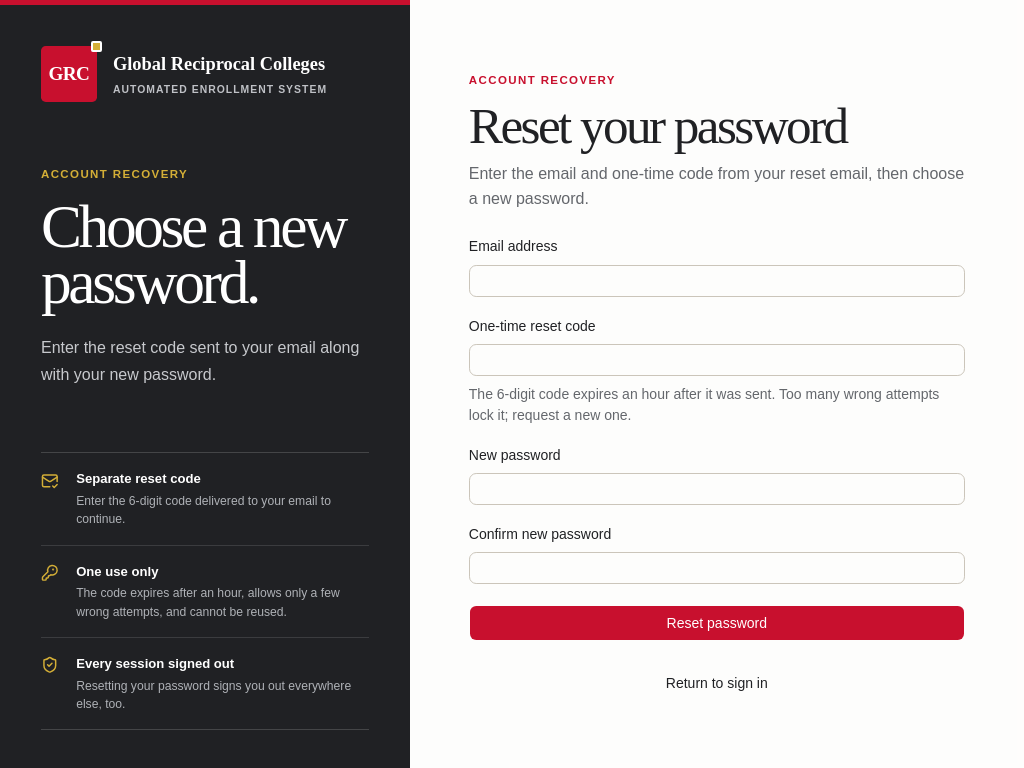
Scenario: ResetPasswordPage › keeps the form visible for an invalid or expired code
In the field labelled "Email address": x=717, y=281 [469,265,965,297], type "student@grc.test"
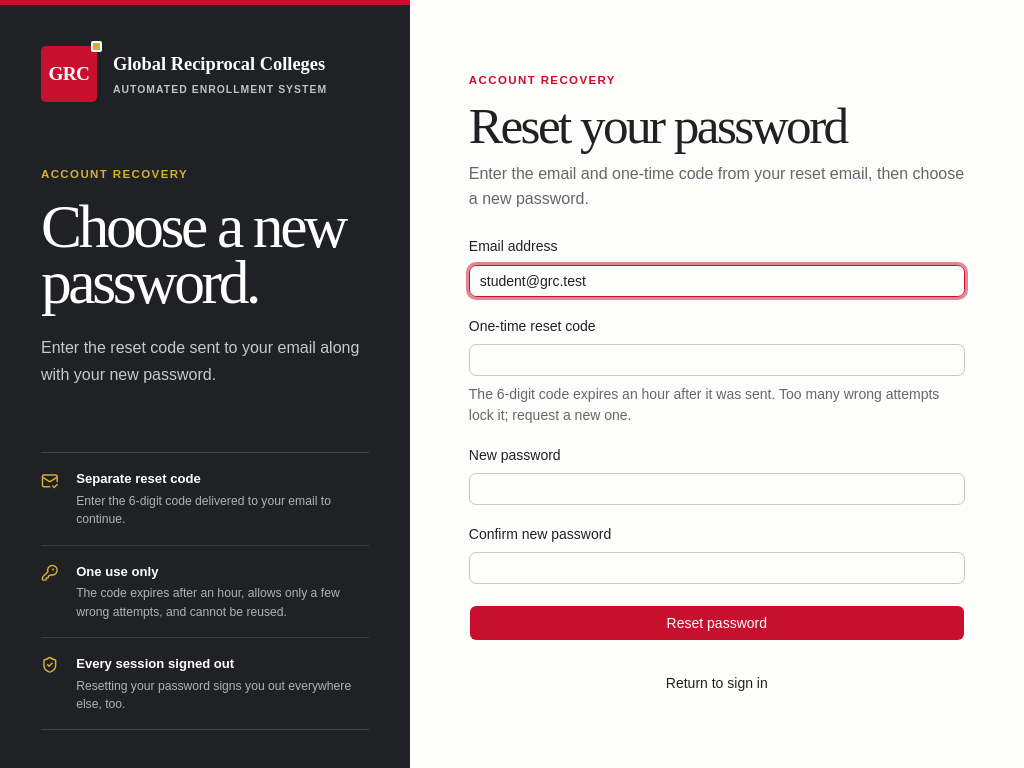
In the field labelled "One-time reset code": x=717, y=360 [469,344,965,376], type "123456"
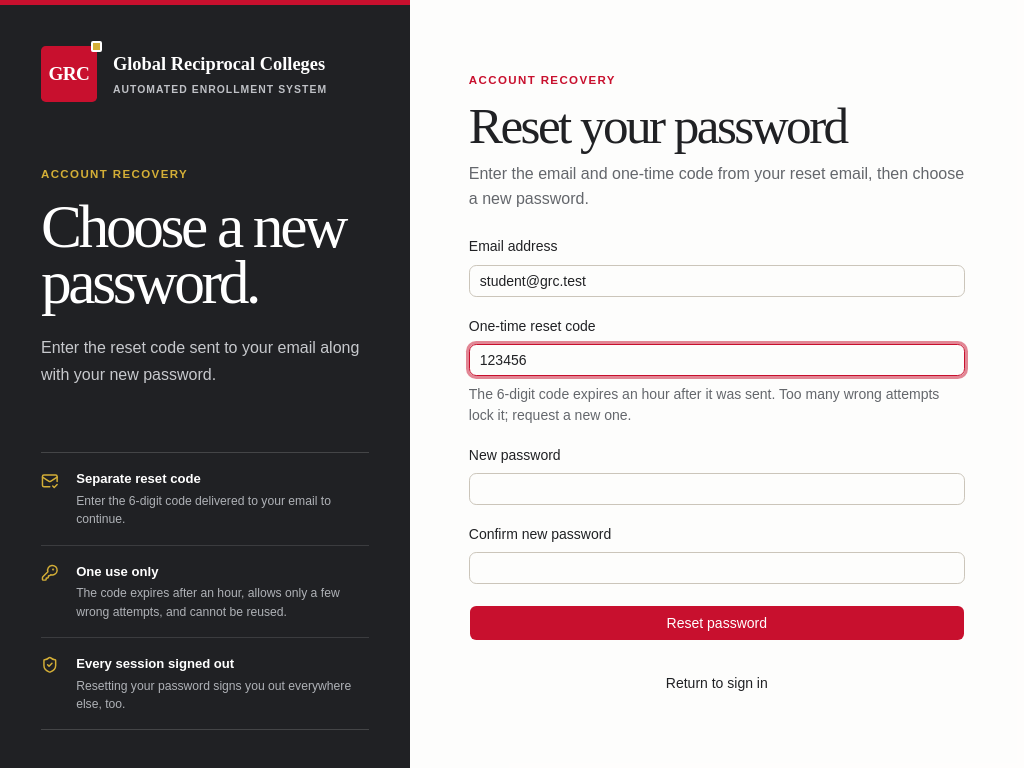
In the password field labelled "New password": x=717, y=489 [469,473,965,505], type "New-Secure-Password1!"
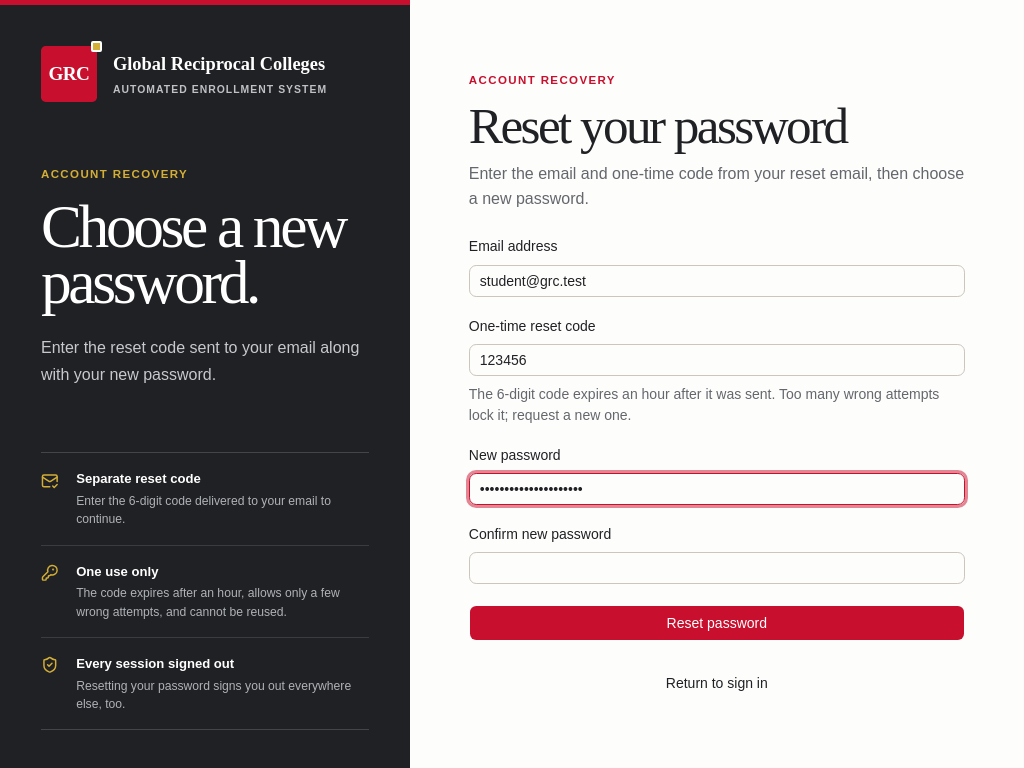
In the password field labelled "Confirm new password": x=717, y=568 [469,552,965,584], type "New-Secure-Password1!"
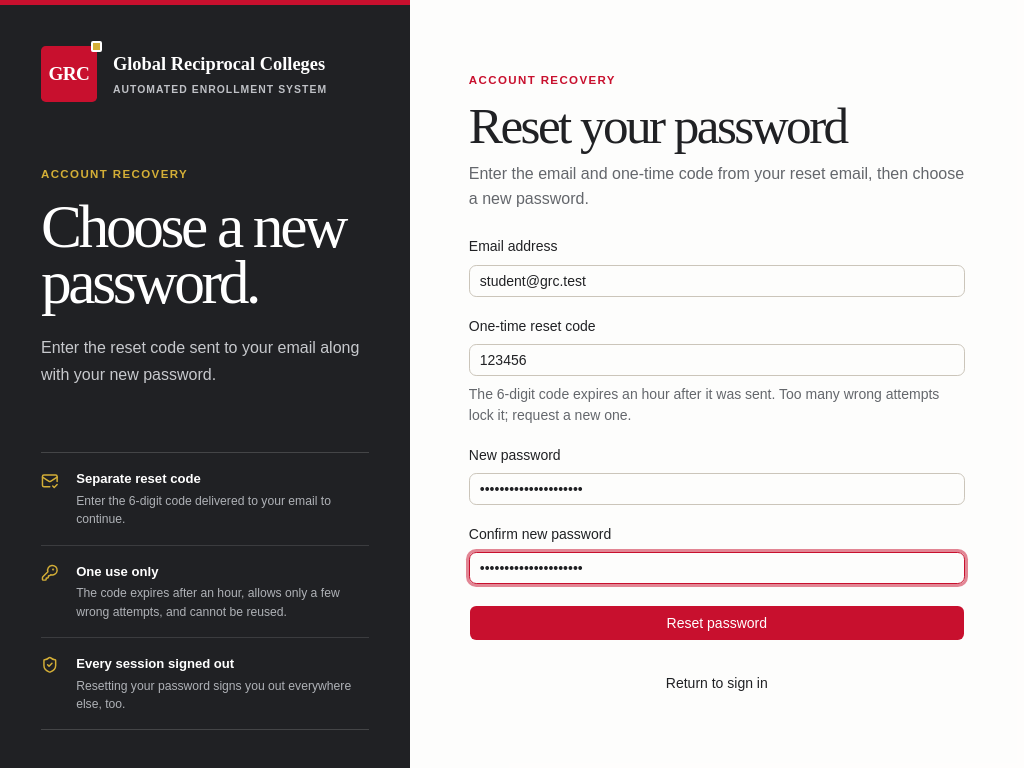
Click the button "Reset password": x=717, y=623 [469,605,965,641]
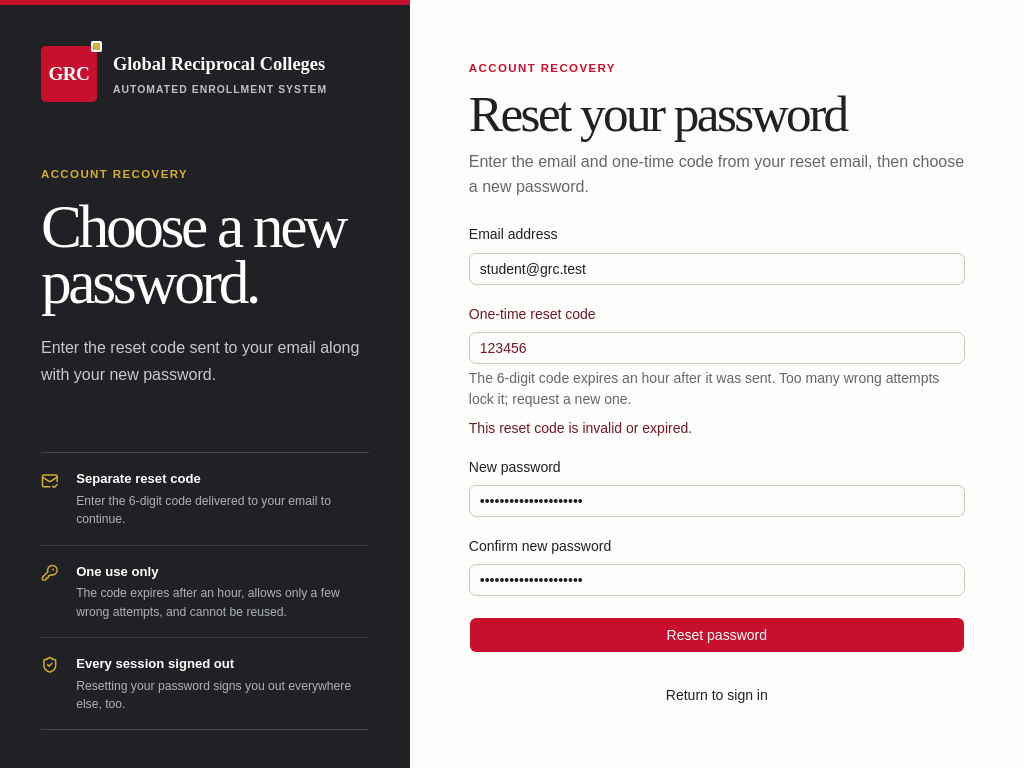
Expected: the heading "Reset your password" is shown, [469,85,847,142]
Expected: the text "This reset code is invalid or expired." is shown, [469,420,692,436]
